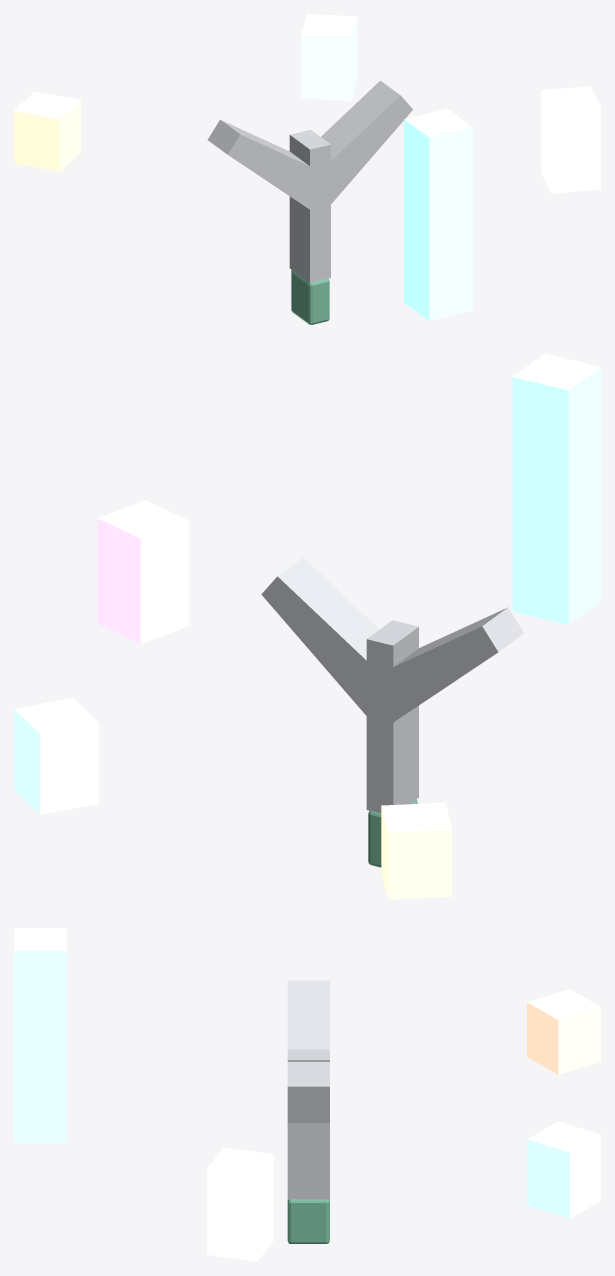
File: turntable.glb
The picture shows the model from 3 angles, top to bottom: view 1: azimuth 30°, elevation 25°; view 2: azimuth 150°, elevation 25°; view 3: azimuth 270°, elevation 25°; orthographic projection. The views are drawn at different scales.
Parts seen in each view (by area): view 1: psi-mark, ready, claimed, done, review; view 2: psi-mark, ready, claimed, done, review; view 3: ready, psi-mark, claimed, done, review.
Part boxes in pixels (box(x1,y1,x2,y2)): psi-mark: box(207, 80, 412, 324); ready: box(404, 108, 473, 321); claimed: box(541, 86, 600, 193); done: box(301, 14, 356, 100); review: box(14, 91, 80, 171); psi-mark: box(261, 557, 524, 867); ready: box(512, 353, 600, 624); claimed: box(97, 500, 188, 643); done: box(14, 698, 99, 814); review: box(381, 802, 452, 899); ready: box(14, 928, 66, 1142); psi-mark: box(287, 980, 329, 1243); claimed: box(207, 1147, 273, 1261); done: box(527, 1121, 600, 1218); review: box(527, 989, 600, 1074).
Size of the model in its own units: 1.46 by 0.9402 by 1.66.
